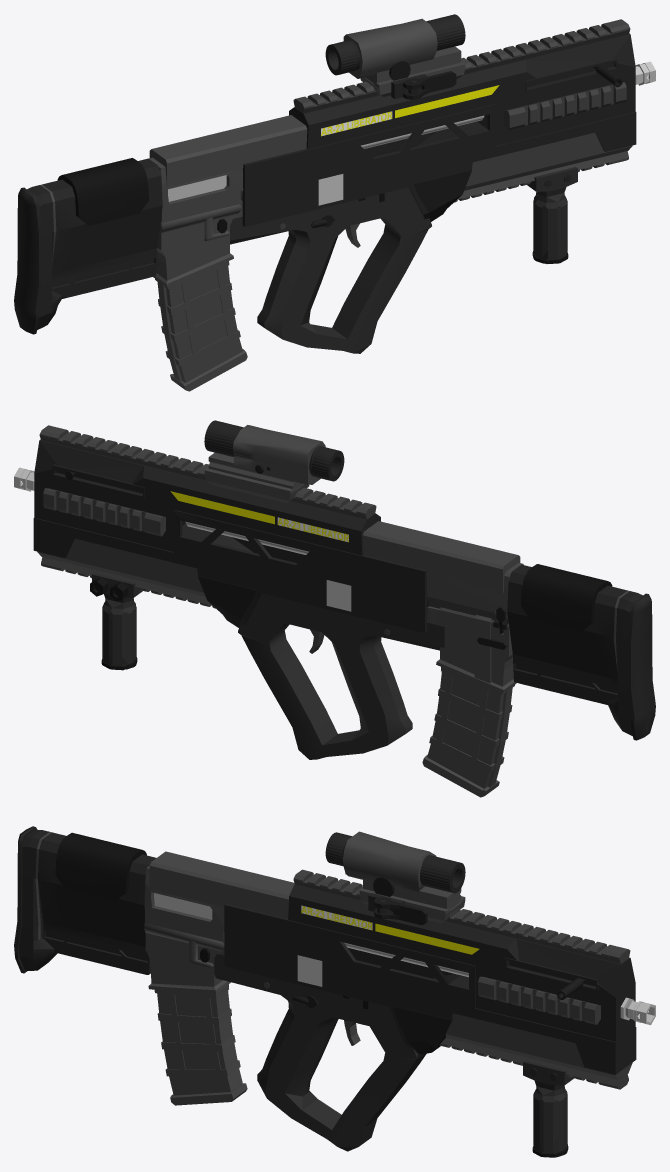
File: AR-23 Liberator.fbx
The picture shows the model from 3 angles, top to bottom: view 1: azimuth 30°, elevation 25°; view 2: azimuth 150°, elevation 25°; view 3: azimuth 330°, elevation 25°; orthographic projection.
Parts seen in each view (by area): view 1: AR-33 Liberator, Sight, Foregrip; view 2: AR-33 Liberator, Sight, Foregrip; view 3: AR-33 Liberator, Sight, Foregrip.
Boxes of the visible parts, left/top/right/bottom form: AR-33 Liberator: left=14, top=19, right=655, bottom=391; Sight: left=325, top=14, right=465, bottom=99; Foregrip: left=527, top=167, right=577, bottom=263; AR-33 Liberator: left=14, top=425, right=655, bottom=797; Sight: left=204, top=420, right=344, bottom=502; Foregrip: left=90, top=573, right=142, bottom=670; AR-33 Liberator: left=14, top=826, right=655, bottom=1151; Sight: left=325, top=831, right=465, bottom=925; Foregrip: left=523, top=1060, right=574, bottom=1157.
Bounding box in the file's own units: 102 × 47.8 × 12.42.
